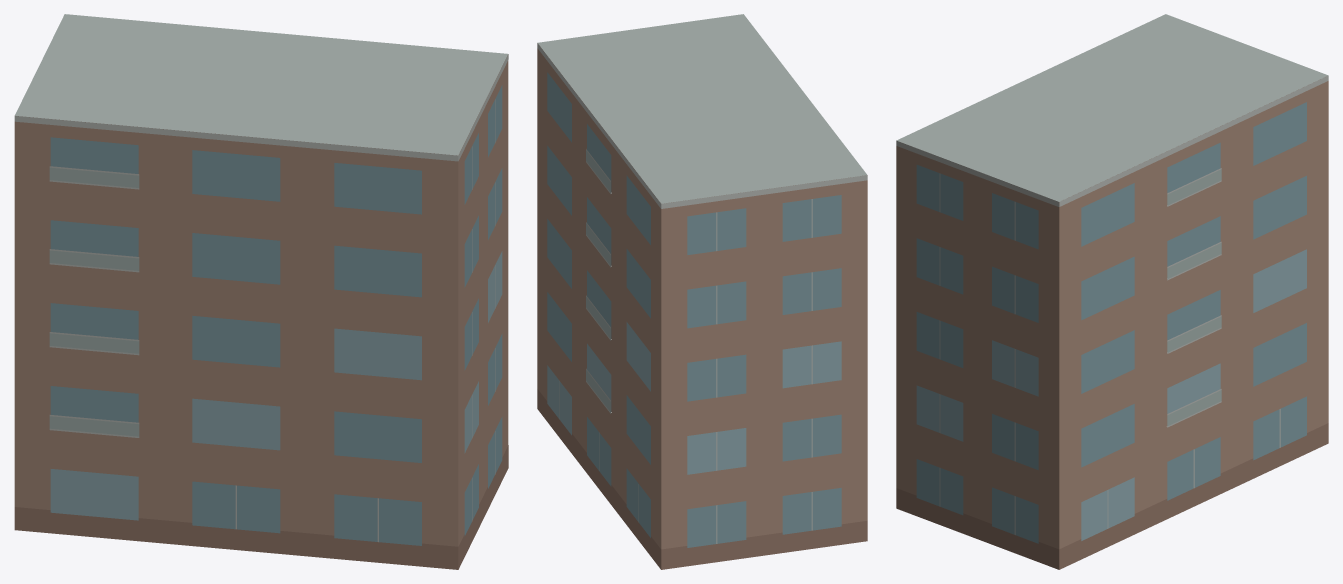
The model's file is survey-upis-32602616.glb.
3 views of the same model, side by side, from view 1: azimuth 30°, elevation 25°; view 2: azimuth 150°, elevation 25°; view 3: azimuth 270°, elevation 25° (orthographic). The views are drawn at different scales.
Visible parts, largest first — view 1: survey-upis-32602616.tmp; view 2: survey-upis-32602616.tmp; view 3: survey-upis-32602616.tmp.
Part boxes in pixels (x1=…): survey-upis-32602616.tmp: x1=14, y1=14, x2=508, y2=569; survey-upis-32602616.tmp: x1=537, y1=14, x2=867, y2=569; survey-upis-32602616.tmp: x1=896, y1=14, x2=1328, y2=569.
Size of the model in its own units: 18.69 by 17.05 by 18.17.
